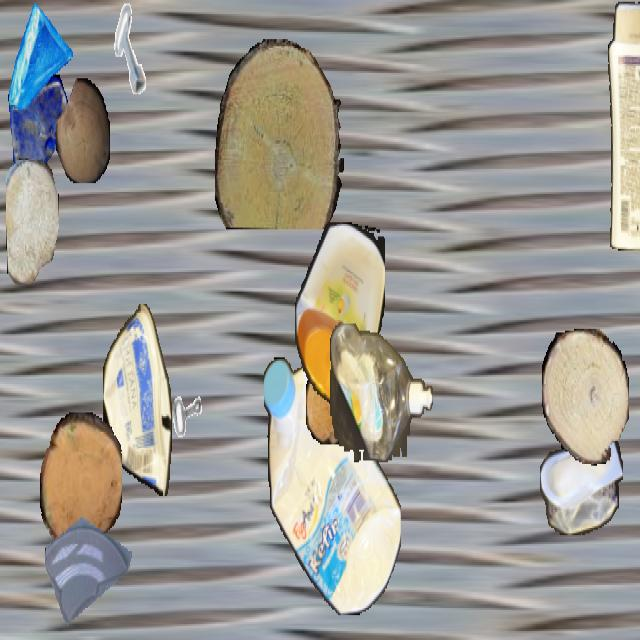glass: (45, 486, 131, 638), (6, 75, 72, 192), (7, 2, 73, 119)
metal: (153, 343, 211, 446), (106, 2, 158, 94)
plastic: (264, 356, 400, 615), (295, 222, 385, 404), (330, 324, 432, 462), (103, 304, 171, 496), (540, 427, 622, 533), (605, 2, 640, 250)
wood: (215, 39, 343, 228), (542, 329, 628, 464), (40, 413, 122, 551), (6, 158, 58, 283), (56, 78, 110, 182), (306, 362, 350, 444)
